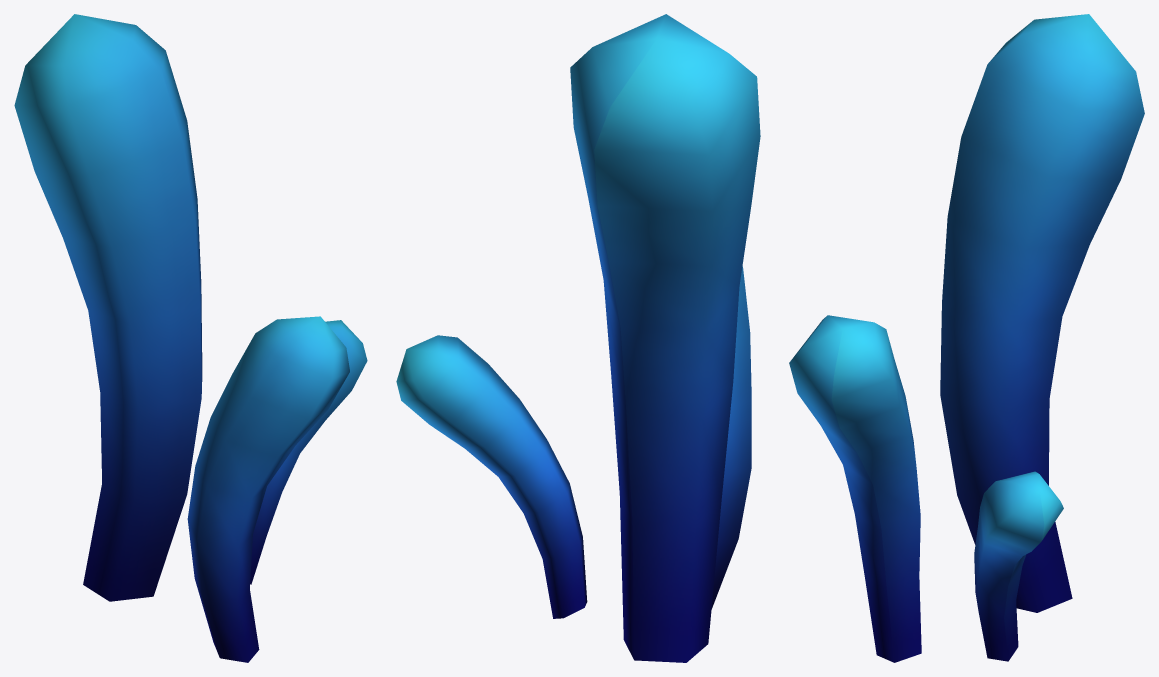
The model's file is Cartoon Seaweed_13-2-18.fbx.
The picture shows the model from 3 angles, left to right: view 1: azimuth 30°, elevation 25°; view 2: azimuth 150°, elevation 25°; view 3: azimuth 270°, elevation 25°; orthographic projection. The views are drawn at different scales.
Visible parts, largest first — view 1: Cartoon Seaweed_13.2.18; view 2: Cartoon Seaweed_13.2.18; view 3: Cartoon Seaweed_13.2.18.
Boxes of the visible parts, bbox=[...] form: Cartoon Seaweed_13.2.18: bbox=[14, 14, 367, 662]; Cartoon Seaweed_13.2.18: bbox=[396, 14, 760, 662]; Cartoon Seaweed_13.2.18: bbox=[789, 14, 1144, 662].
Size of the model in its own units: 2.94 by 5.45 by 2.9.
Materials: 1 (1 with a texture image).
